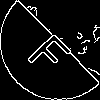F: (25, 25, 80, 79)
